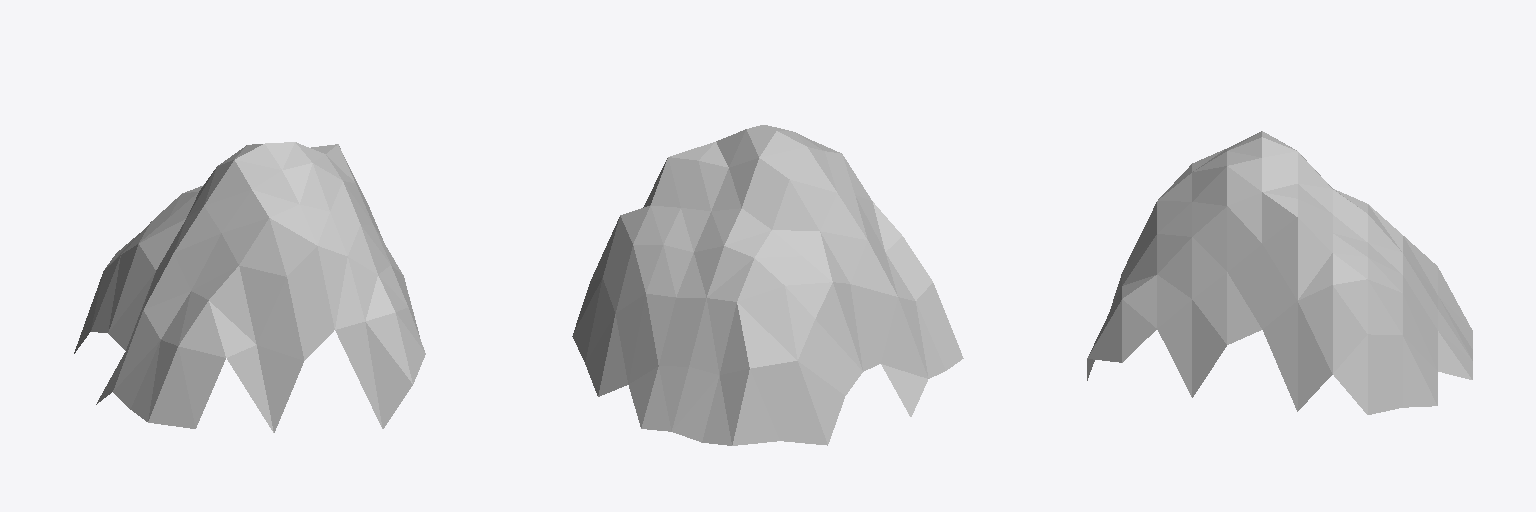
File: tree_5.obj
3 views of the same model, side by side, from view 1: azimuth 30°, elevation 25°; view 2: azimuth 150°, elevation 25°; view 3: azimuth 270°, elevation 25° (orthographic).
Visible parts, largest first — view 1: tree_15; view 2: tree_15; view 3: tree_15.
Part boxes in pixels (x1,y1,x2,y2): tree_15: (74, 142, 425, 432); tree_15: (572, 125, 963, 445); tree_15: (1087, 131, 1472, 414).
Bounding box in the file's own units: 10 × 7.48 × 11.